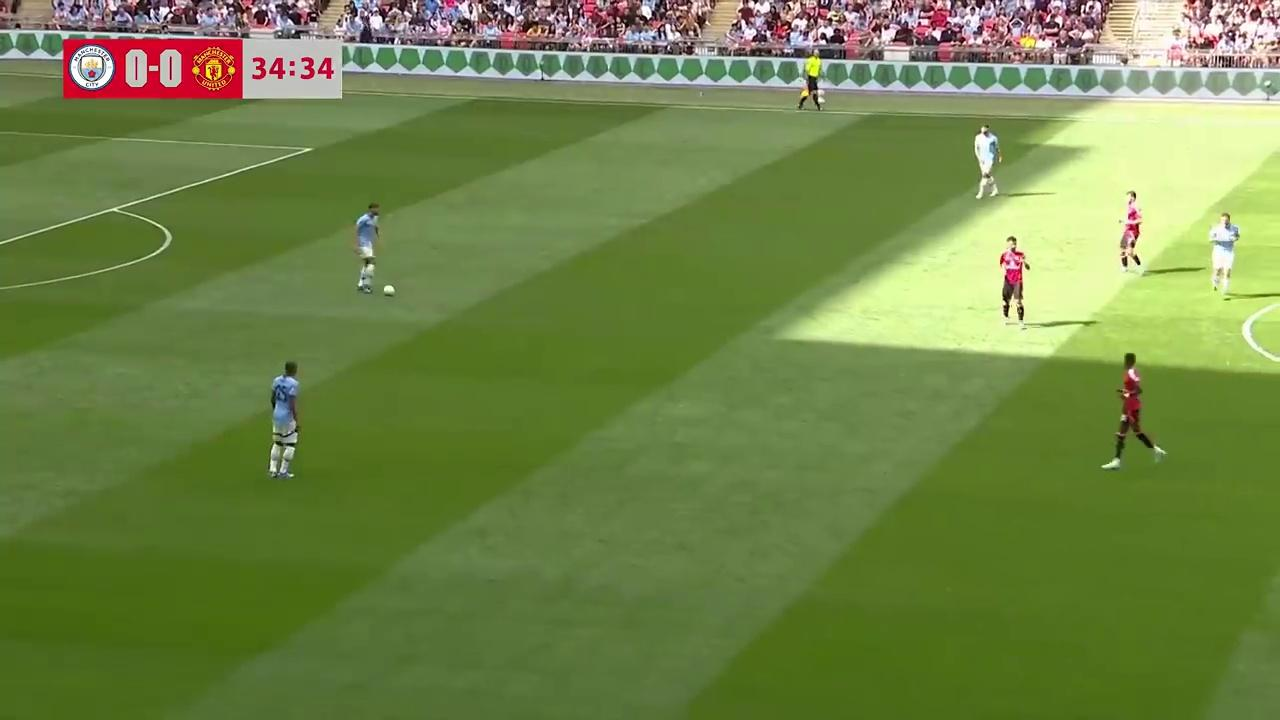ball: (381, 281, 397, 296)
player: (1100, 353, 1167, 471), (268, 361, 300, 479), (998, 234, 1031, 330), (1208, 212, 1240, 298), (353, 202, 381, 293), (1118, 191, 1143, 274), (974, 128, 1000, 199)
referee: (797, 53, 824, 112)
